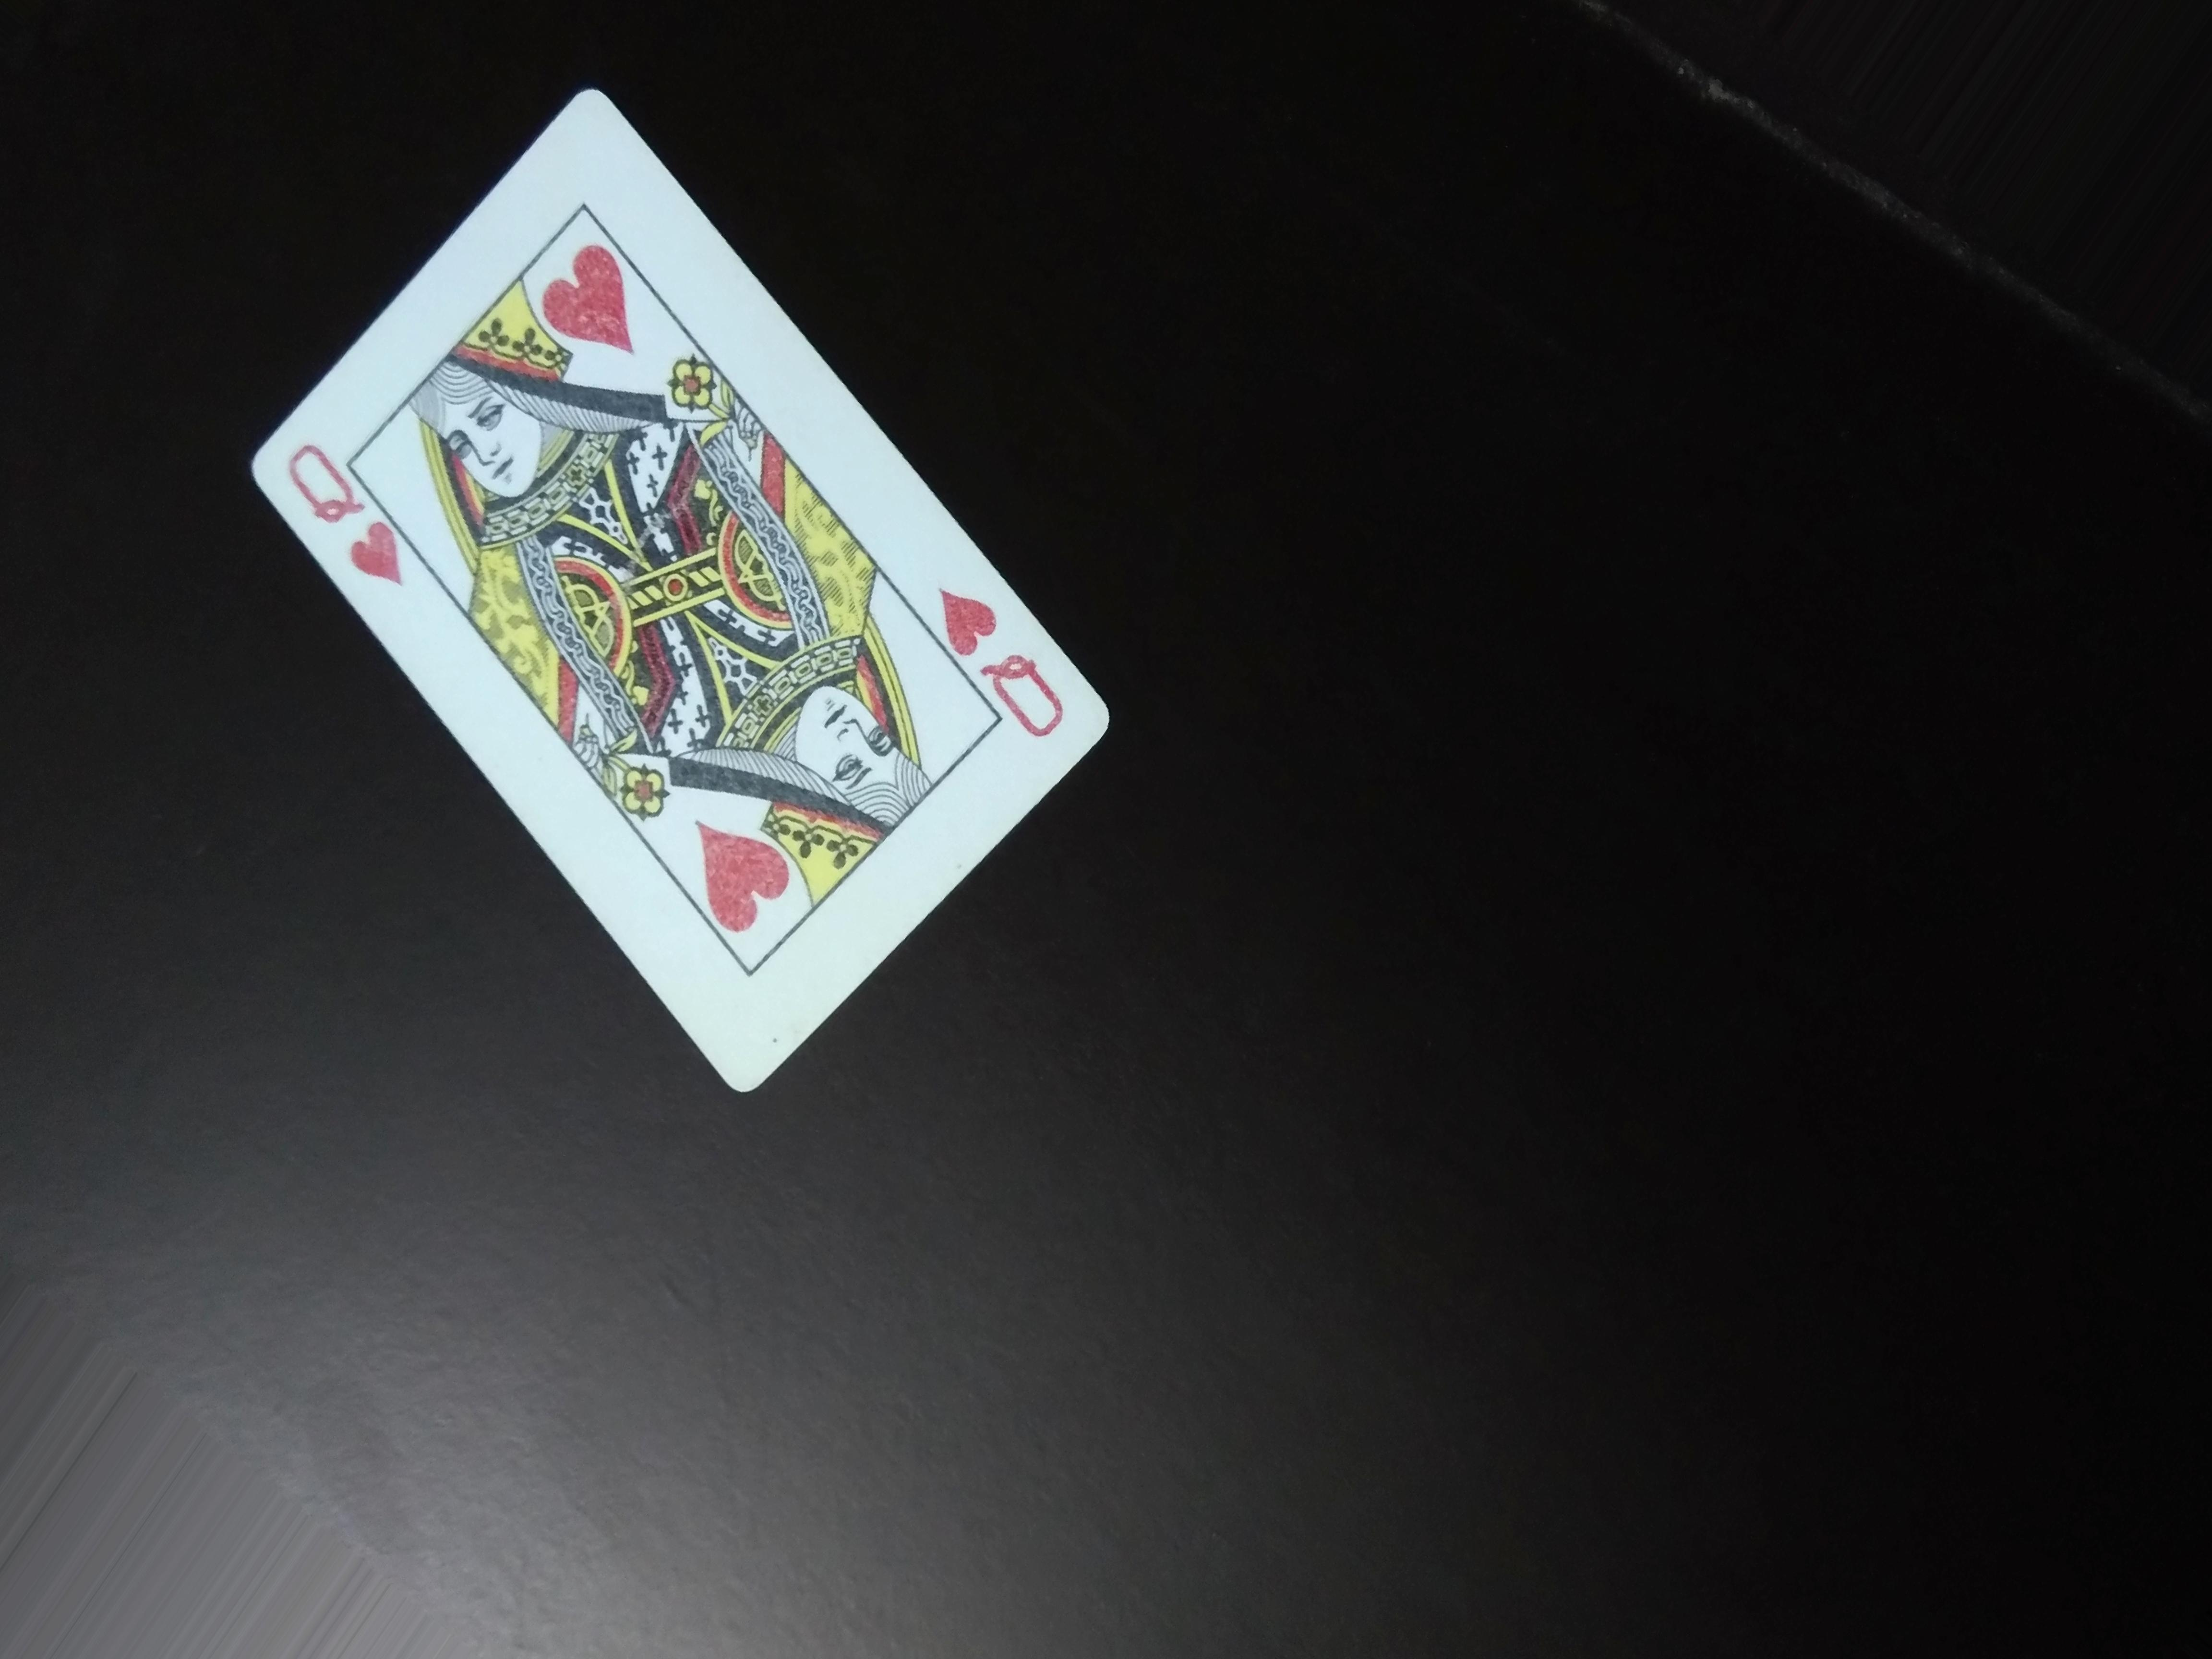QH: (268, 415, 420, 598)
